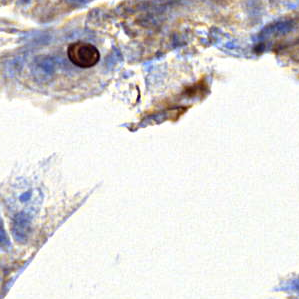Lymphocyte: (64, 40, 101, 66)
